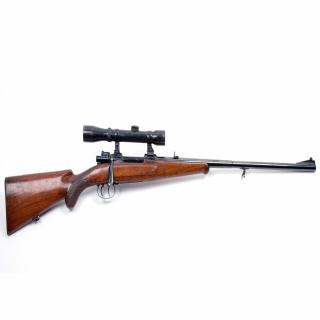gun: (3, 111, 316, 222)
